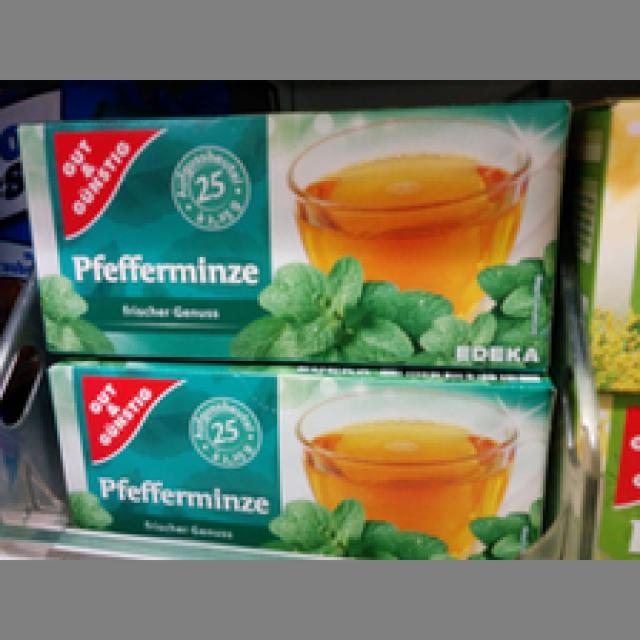groceries: (14, 97, 574, 369), (43, 348, 551, 552)
